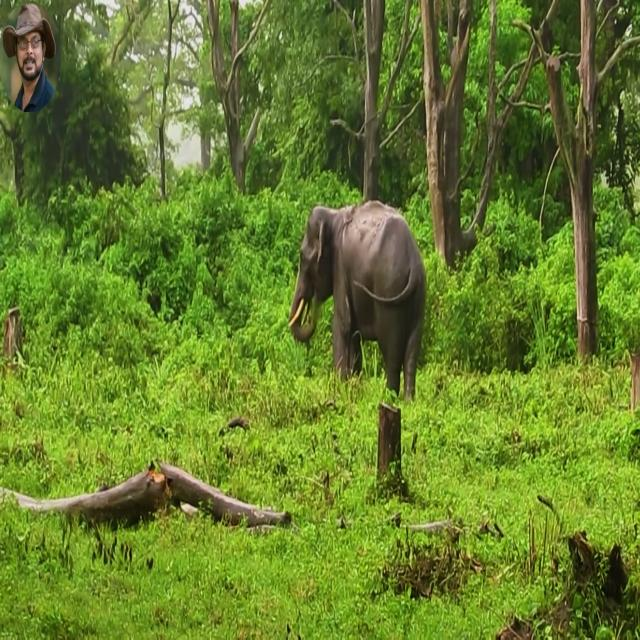Elephant: (287, 198, 427, 403)
